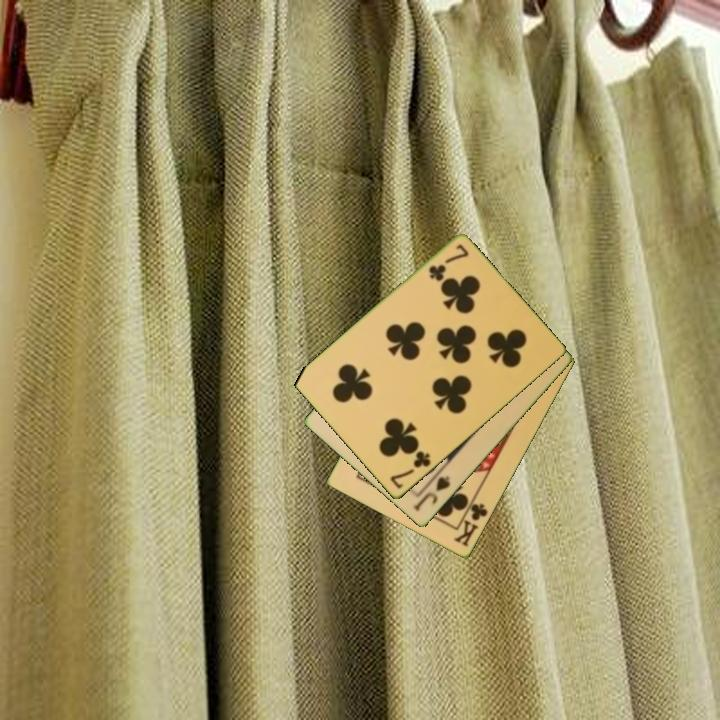7c: (386, 448, 434, 492), (425, 241, 472, 284)
Js: (410, 473, 453, 515)
Kc: (450, 494, 491, 550)
